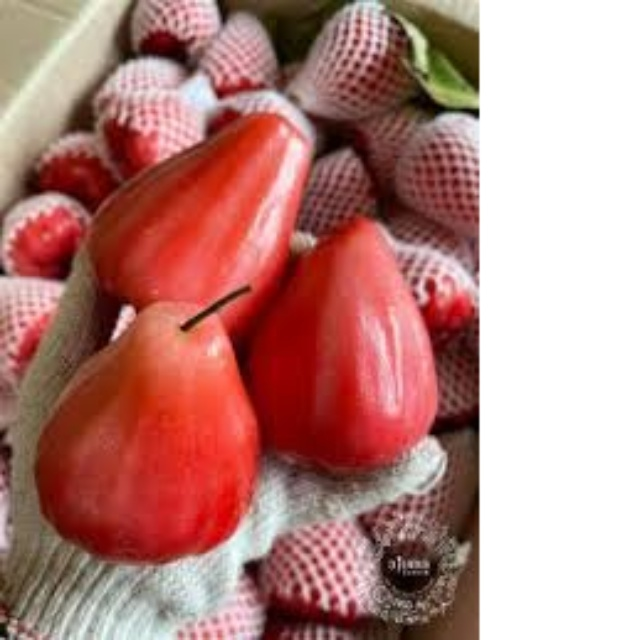xoai: (27, 298, 271, 568), (244, 209, 451, 473), (91, 106, 326, 321)
